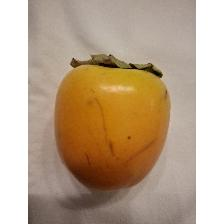Kaki: (52, 52, 172, 194)
